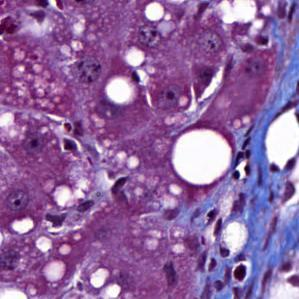inflammation: (200, 207, 230, 237), (230, 261, 252, 285)
